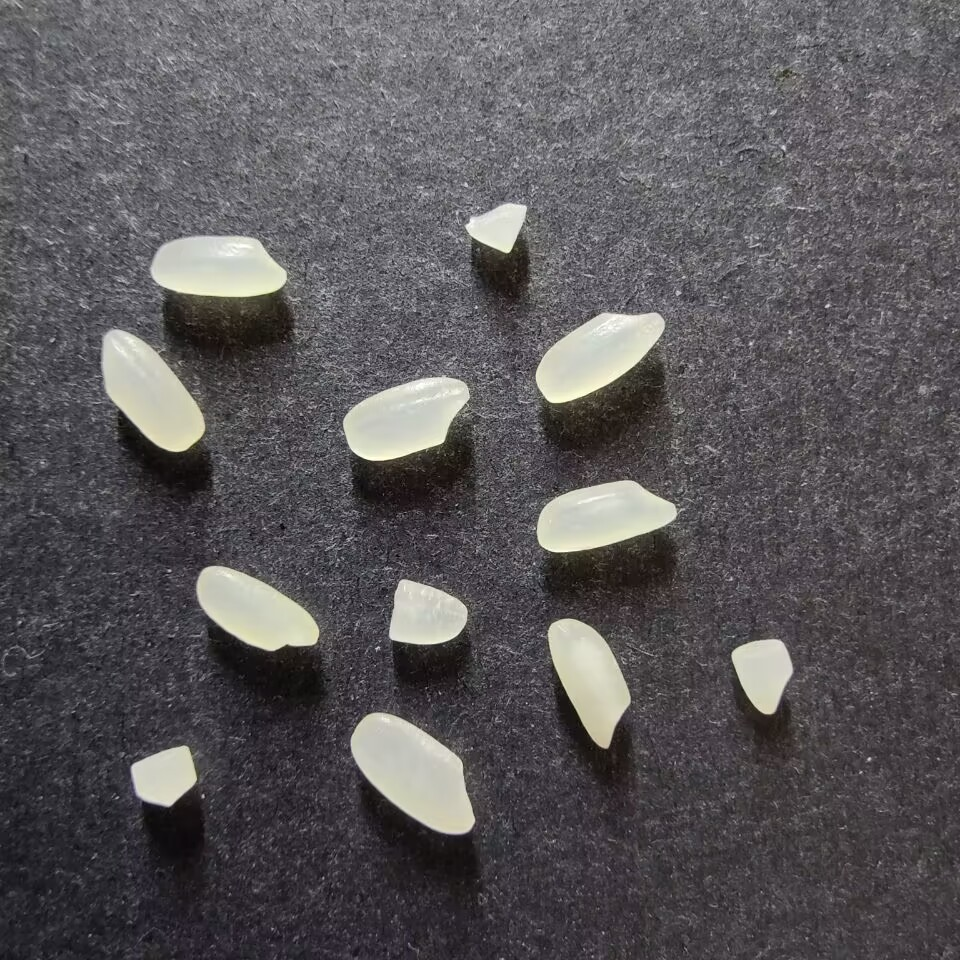broken: (387, 579, 466, 645), (731, 638, 793, 715), (130, 744, 197, 806), (465, 202, 527, 253)
rice: (349, 711, 475, 835), (100, 328, 205, 452), (535, 311, 665, 403), (547, 618, 631, 749), (342, 376, 470, 461), (195, 565, 319, 652), (536, 479, 677, 553), (150, 235, 287, 297)
